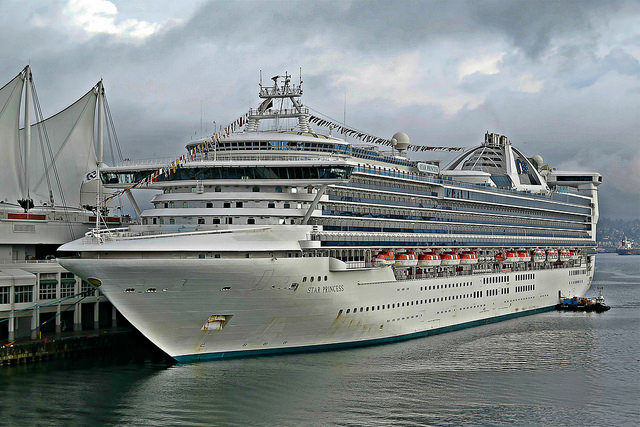boat: (557, 284, 611, 316)
cruise_ship: (61, 49, 607, 350)
